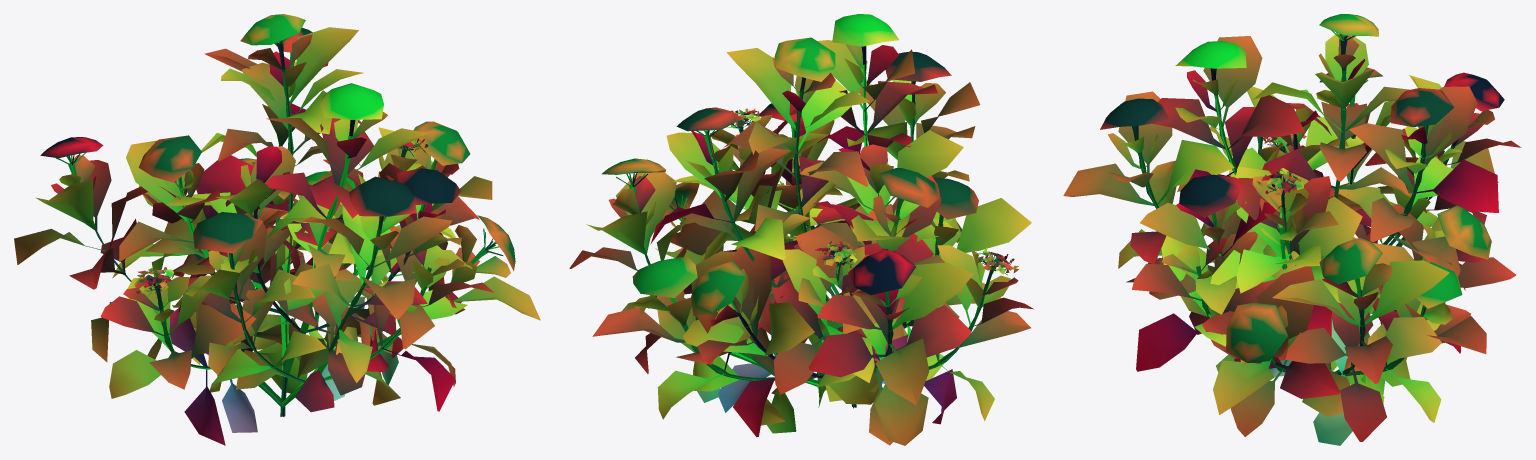
Rendered from Bigleaf_Hydrangea_vgztealha_Mid_vgztealha_VarC_LOD2.fbx.
3 renders of one model, left to right at view 1: azimuth 30°, elevation 25°; view 2: azimuth 150°, elevation 25°; view 3: azimuth 270°, elevation 25°, orthographic.
Visible parts, largest first — view 1: _ydjh_VarC_LOD4; view 2: _ydjh_VarC_LOD4; view 3: _ydjh_VarC_LOD4.
Part boxes in pixels (x1,y1,x2,y2): _ydjh_VarC_LOD4: [14, 14, 540, 445]; _ydjh_VarC_LOD4: [569, 14, 1033, 445]; _ydjh_VarC_LOD4: [1063, 14, 1521, 445].
Bounding box in the file's own units: 153 × 133 × 146.
